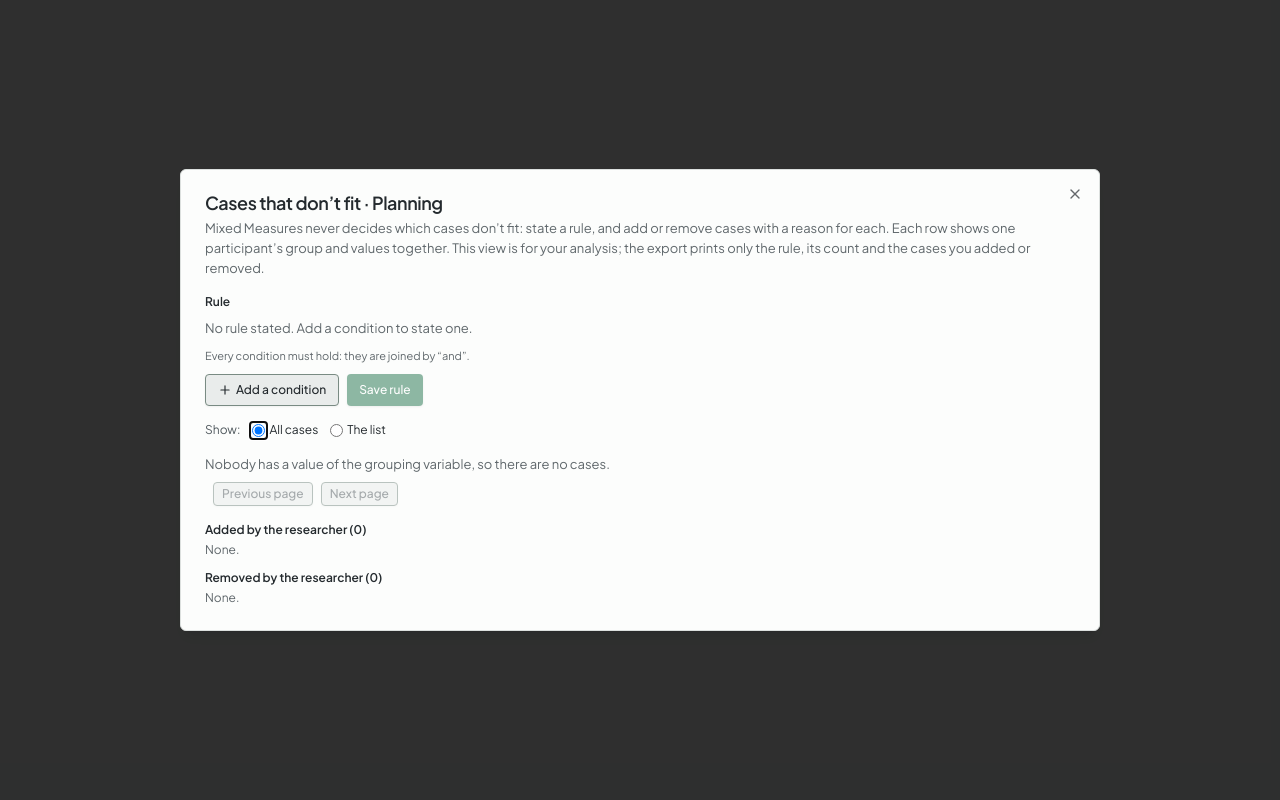
Test: #1661 — an unfinished line is counted, never printed as “” and never dropped unsaid › a new group line with no group chosen: "No rule stated yet (1 condition not finished)", no “”
Click the button "Add a condition".
click(272, 390)  # box left=205, top=374, right=339, bottom=406
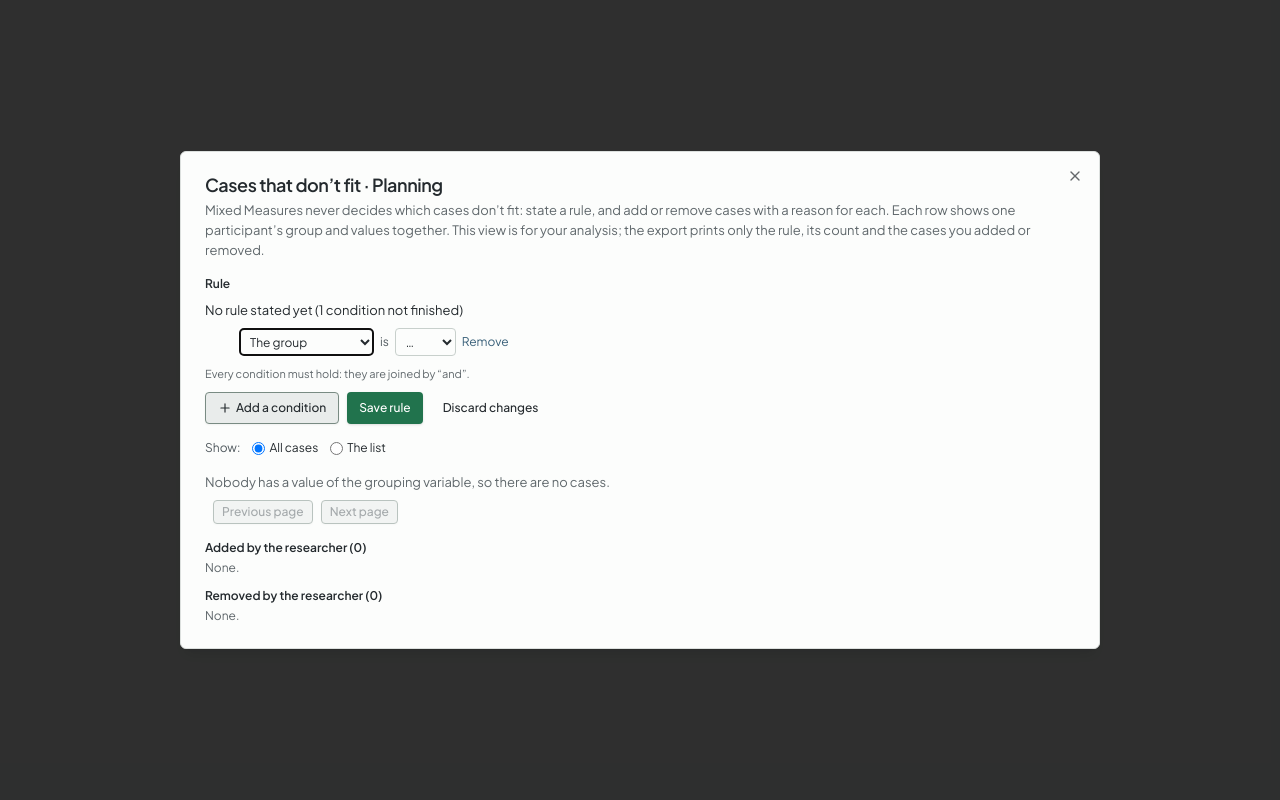
expect the text "No rule stated yet (1 condition not finished)" is shown: met, box left=205, top=302, right=463, bottom=318
